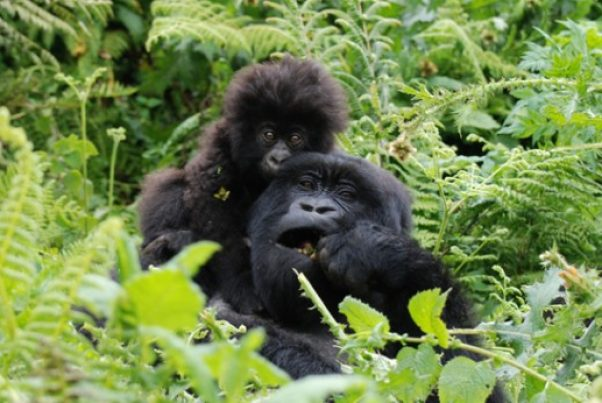Goriila: (245, 148, 481, 396), (151, 27, 333, 220)
